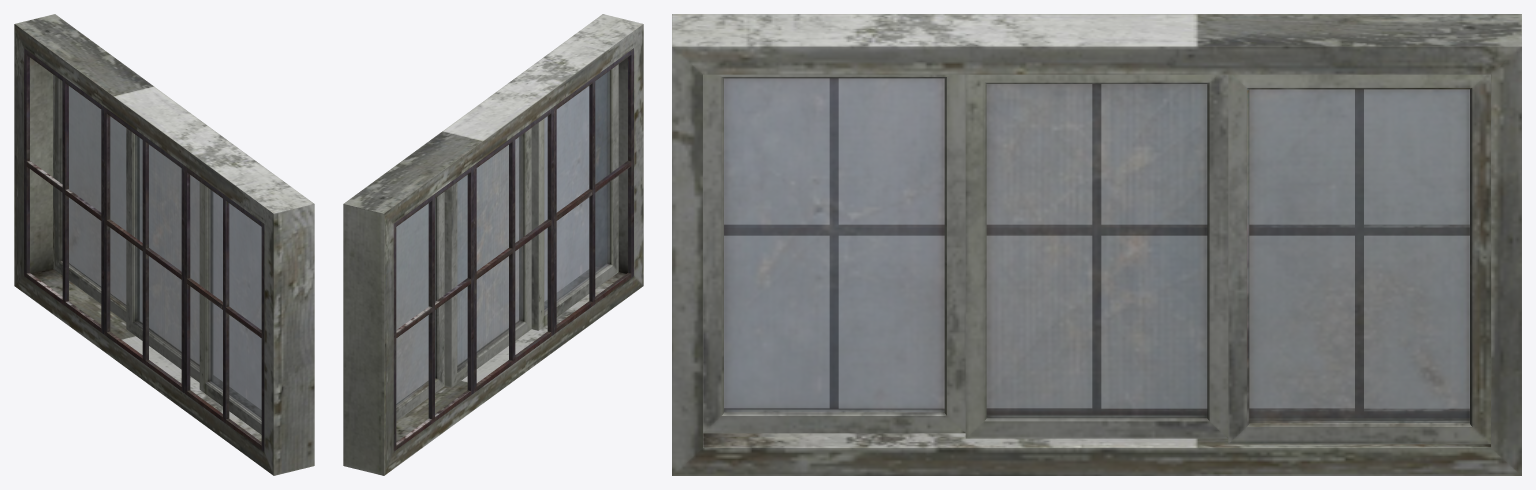
Rendered from WindowSet_S.FBX.
3 views of the same model, side by side, from view 1: azimuth 30°, elevation 25°; view 2: azimuth 150°, elevation 25°; view 3: azimuth 270°, elevation 25° (orthographic). The views are drawn at different scales.
Parts seen in each view (by area): view 1: WindowFrame_S, Window_02_S (×2), Grill_S, Window_01_S; view 2: WindowFrame_S, Window_02_S (×2), Grill_S, Window_01_S; view 3: Window_02_S (×2), WindowFrame_S, Window_01_S, Grill_S.
Part boxes in pixels (x1=…): WindowFrame_S: x1=14, y1=14, x2=314, y2=475; Window_02_S (×2): x1=53, y1=74, x2=212, y2=382; Grill_S: x1=24, y1=48, x2=264, y2=451; Window_01_S: x1=199, y1=182, x2=261, y2=434; WindowFrame_S: x1=343, y1=14, x2=643, y2=475; Window_02_S (×2): x1=396, y1=128, x2=531, y2=421; Grill_S: x1=393, y1=48, x2=633, y2=451; Window_01_S: x1=531, y1=64, x2=618, y2=330; Window_02_S (×2): x1=965, y1=74, x2=1490, y2=444; WindowFrame_S: x1=672, y1=14, x2=1521, y2=475; Window_01_S: x1=703, y1=74, x2=965, y2=433; Grill_S: x1=724, y1=78, x2=1469, y2=417.
Bounding box in the file's own units: 22.67 × 139 × 250.
2 materials, 2 textured.
